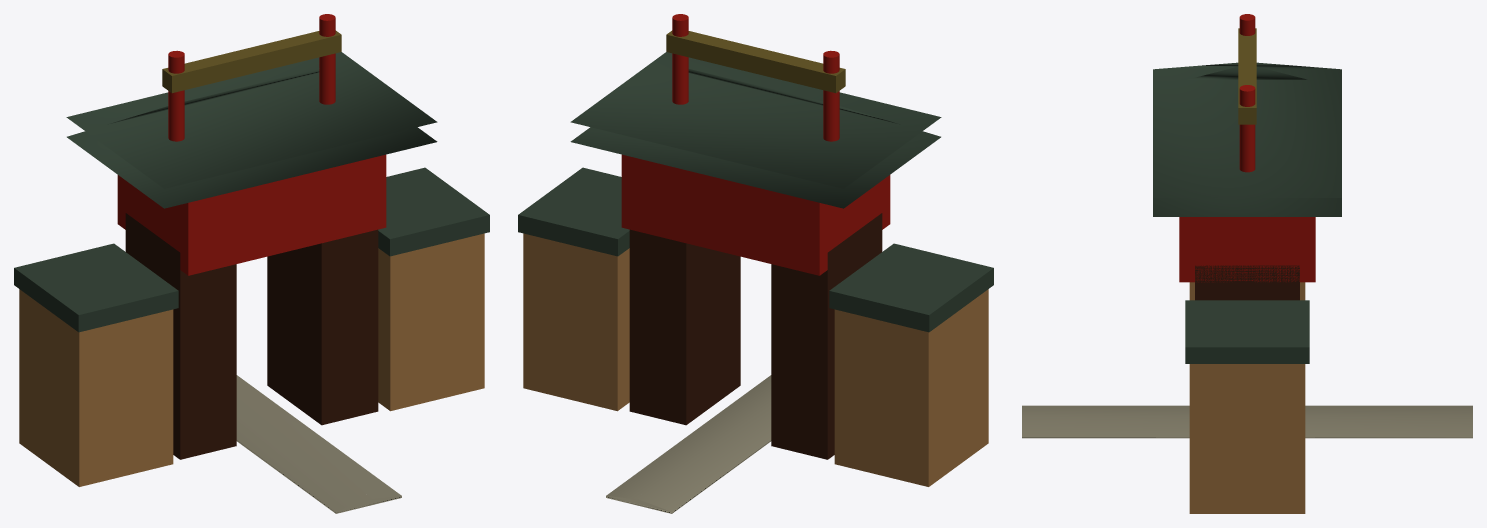
Rendered from Gumen.fbx.
3 renders of one model, left to right at view 1: azimuth 30°, elevation 25°; view 2: azimuth 150°, elevation 25°; view 3: azimuth 270°, elevation 25°, orthographic. The views are drawn at different scales.
Parts seen in each view (by area): view 1: gate_roof, east_wall, west_pier, east_wall_2, gate_house, west_wall, east_pier, east_wall_coping, passage_road, gate_roof_2, west_wall_coping, west_wall_2 (+3 smaller); view 2: gate_roof, east_wall, west_pier, gate_house, west_wall, east_wall_2, east_pier, east_wall_coping, passage_road, gate_roof_2, west_wall_coping, ridge (+3 smaller); view 3: gate_roof, west_wall, passage_road, gate_house, west_wall_coping, west_wall_2, gate_roof_2, west_pier, ridge, watch_post_w.
Part boxes in pixels (x1,y1,x2,y2): gate_roof: (66,52,437,188); east_wall: (19,289,173,486); west_pier: (267,229,378,425); east_wall_2: (19,300,173,486); gate_house: (117,154,386,275); west_wall: (378,233,484,410); east_pier: (125,213,236,459); east_wall_coping: (14,243,178,332); passage_road: (236,375,401,513); gate_roof_2: (67,68,437,208); west_wall_coping: (378,167,489,256); west_wall_2: (378,235,484,410); gate_roof: (570,52,941,188); east_wall: (834,289,988,486); west_pier: (629,229,740,425); gate_house: (621,154,890,275); west_wall: (523,233,629,411); east_wall_2: (834,301,988,486); east_pier: (771,213,882,459); east_wall_coping: (829,243,993,332); passage_road: (606,375,771,513); gate_roof_2: (570,68,940,208); west_wall_coping: (518,167,629,256); ridge: (666,30,845,93); gate_roof: (1153,62,1341,197); west_wall: (1189,364,1305,513); passage_road: (1022,405,1472,438); gate_house: (1179,217,1315,282); west_wall_coping: (1185,300,1309,363); west_wall_2: (1189,364,1305,513); gate_roof_2: (1153,67,1341,216); west_pier: (1195,265,1299,300); ridge: (1238,28,1256,124); watch_post_w: (1239,85,1255,172).
Bounding box in the file's own units: 87.2 × 80 × 86.
